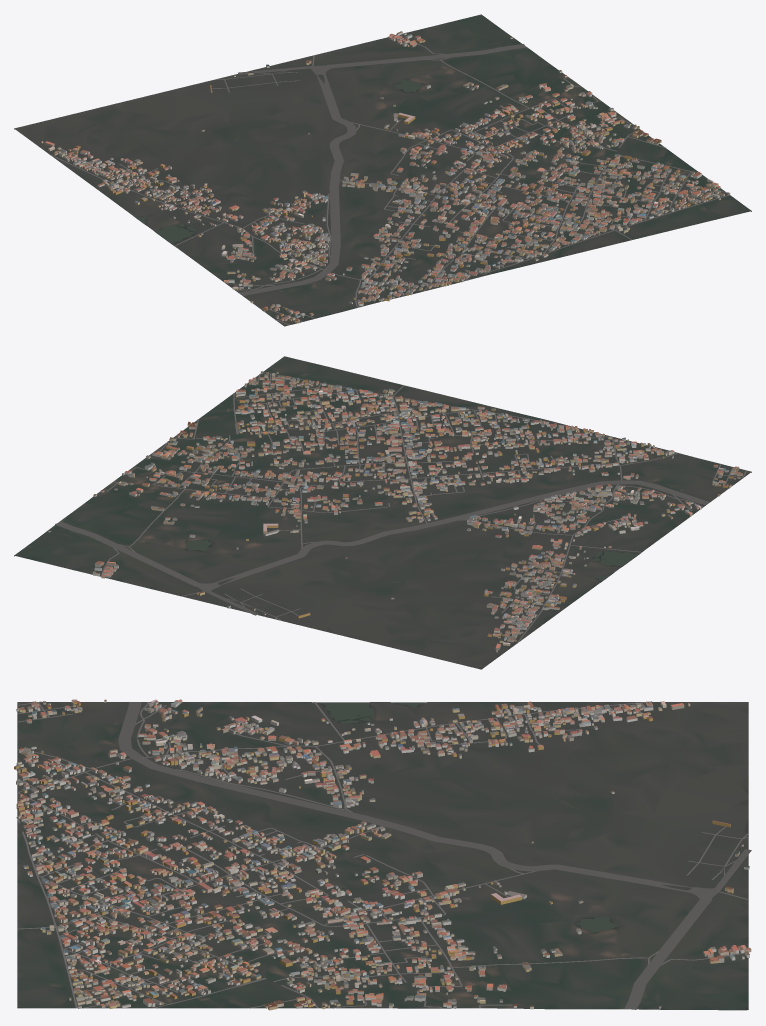
The picture shows the model from 3 angles, top to bottom: view 1: azimuth 30°, elevation 25°; view 2: azimuth 150°, elevation 25°; view 3: azimuth 270°, elevation 25°; orthographic projection. The views are drawn at different scales.
Visible parts, largest first — view 1: ground, buildings, roads, water; view 2: ground, buildings, roads, water; view 3: ground, buildings, roads, water.
Part boxes in pixels (bbox=[...]): ground: bbox=[14, 14, 751, 326]; buildings: bbox=[41, 31, 730, 323]; roads: bbox=[49, 40, 729, 325]; water: bbox=[136, 80, 422, 244]; ground: bbox=[14, 356, 751, 669]; buildings: bbox=[48, 371, 742, 652]; roads: bbox=[55, 372, 746, 643]; water: bbox=[186, 540, 639, 580]; ground: bbox=[17, 702, 748, 1010]; buildings: bbox=[14, 699, 751, 1010]; roads: bbox=[16, 701, 751, 1009]; water: bbox=[318, 702, 618, 932].
Size of the model in its own units: 1410 by 18.57 by 1415.
